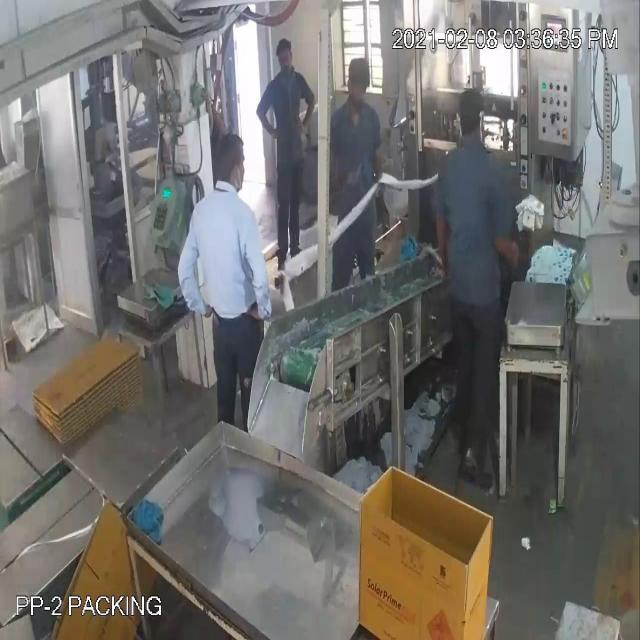No_Gloves: (16, 54, 443, 276)
